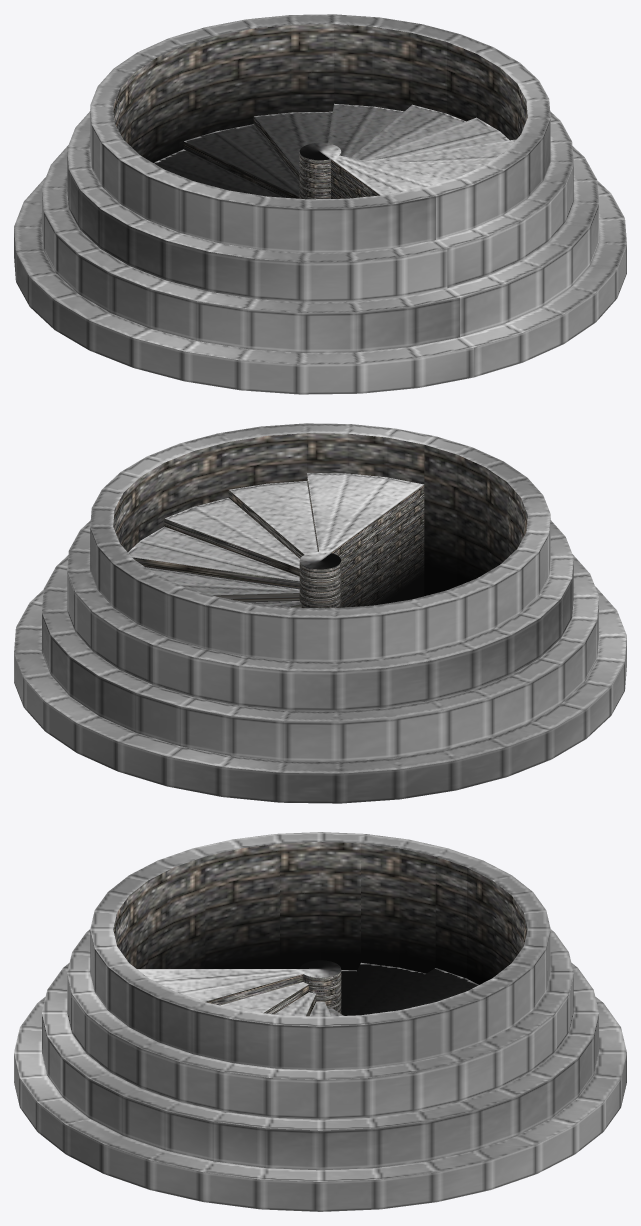
Rendered from gate-down.obj.
3 renders of one model, top to bottom at view 1: azimuth 30°, elevation 25°; view 2: azimuth 150°, elevation 25°; view 3: azimuth 270°, elevation 25°, orthographic.
Parts seen in each view (by area): view 1: Cylinder; view 2: Cylinder; view 3: Cylinder.
Boxes of the visible parts, x1,y1,x2,y2 form: Cylinder: [14, 14, 626, 394]; Cylinder: [14, 423, 626, 803]; Cylinder: [14, 832, 626, 1211].
Bounding box in the file's own units: 5.59 × 1.54 × 5.59.
1 material, 1 textured.
